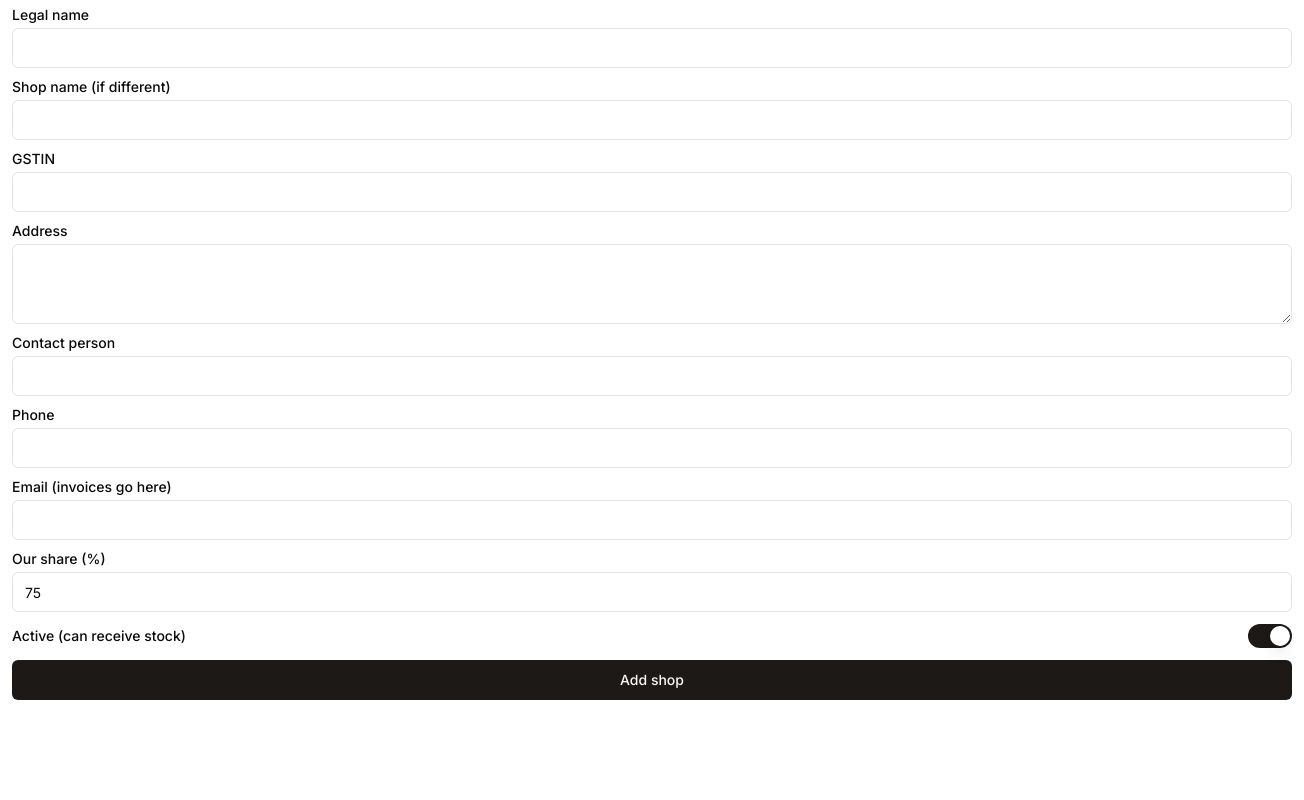
Test: RetailerForm › names the state from a valid GSTIN and flags a bad one
The width and height of the screenshot is (1304, 800).
Type "29AAGFC4321M1ZB" into the field labelled "GSTIN" at (652, 192), box [12,172,1292,212]
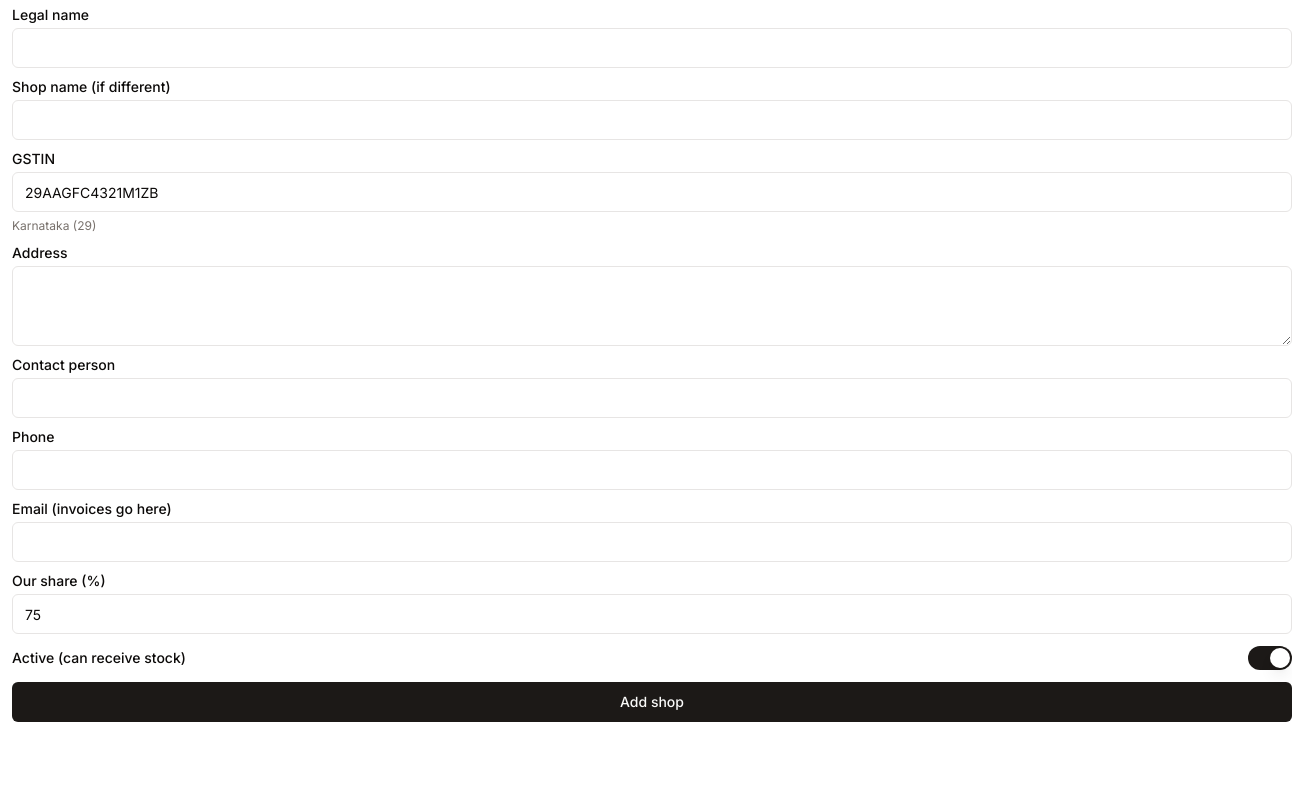
Check: the text "Karnataka (29)" is shown, box [12,218,96,233]
Replace the text in the field labelled "GSTIN" with "29AAGFC4321M1ZC" at (652, 192), box [12,172,1292,212]
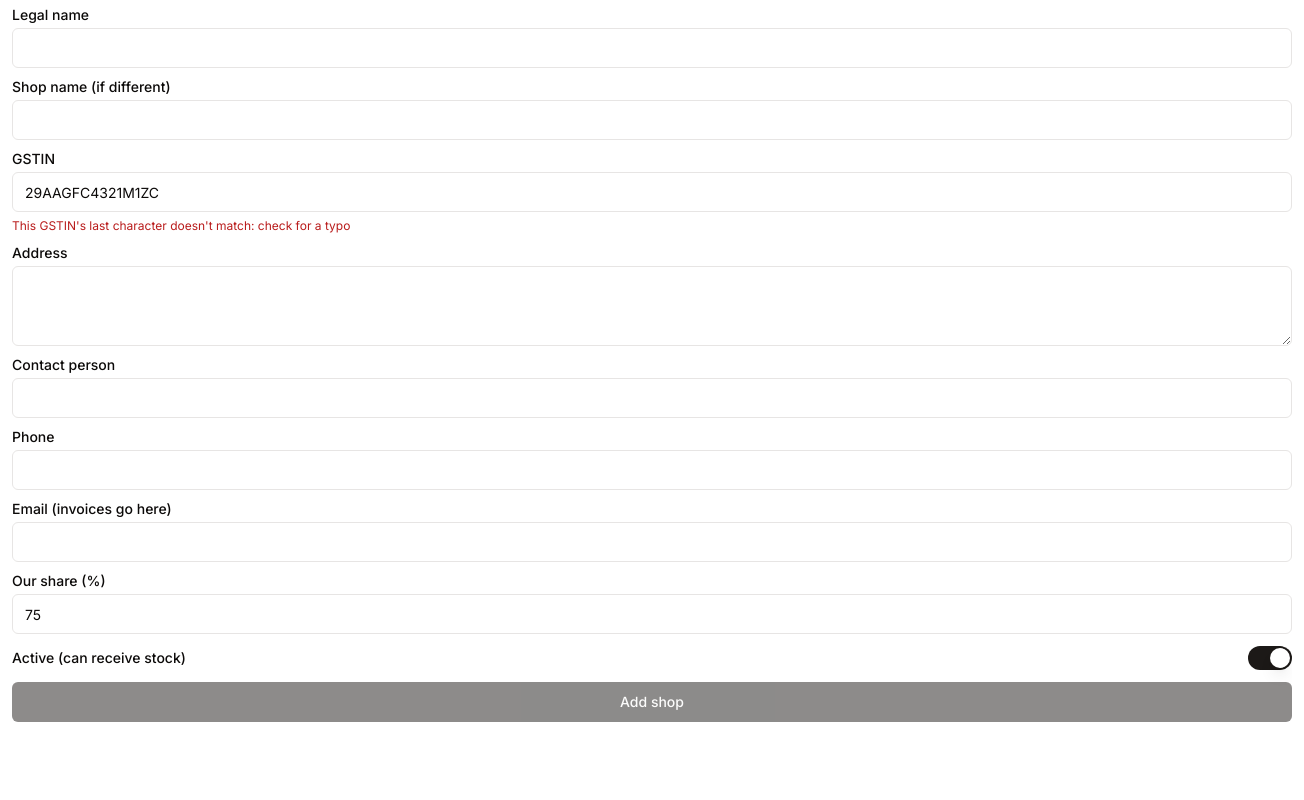
Check: the text "This GSTIN's last character doesn't match: check for a typo" is shown, box [12,218,350,233]
